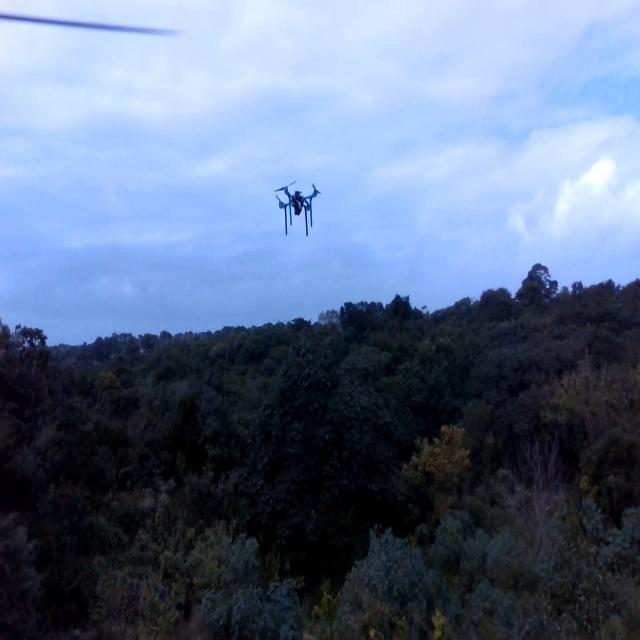-uav-: (269, 172, 325, 246)
